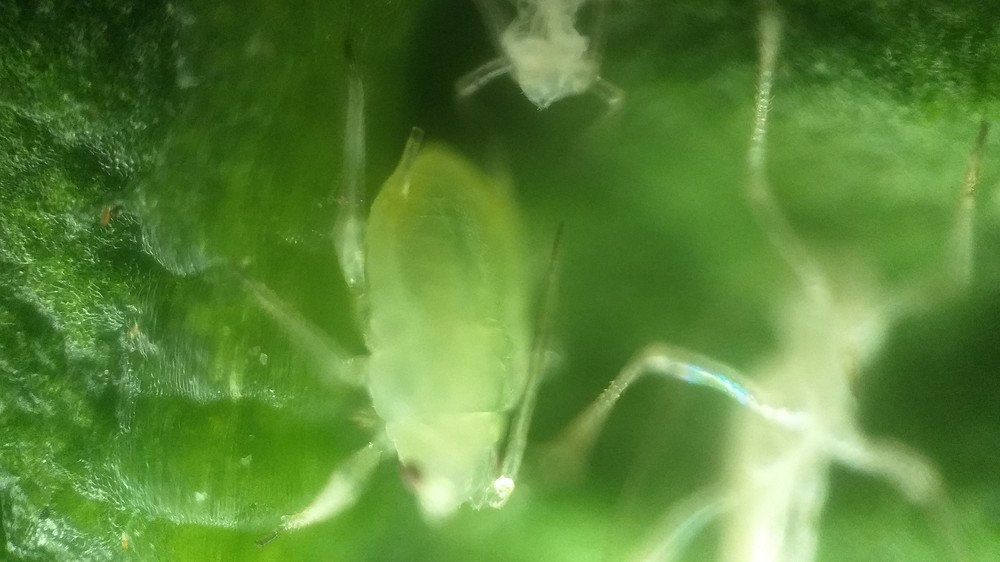Pulgon: (246, 60, 621, 558)
